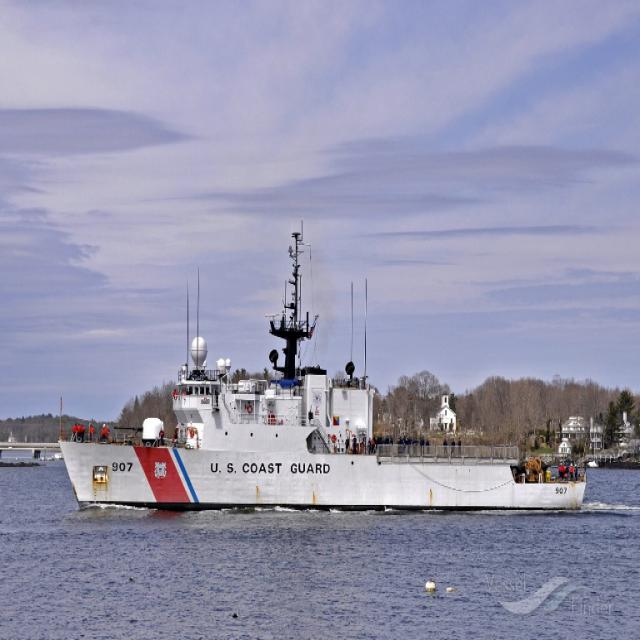OCR: (206, 451, 336, 484), (108, 458, 134, 477), (553, 481, 569, 499)
